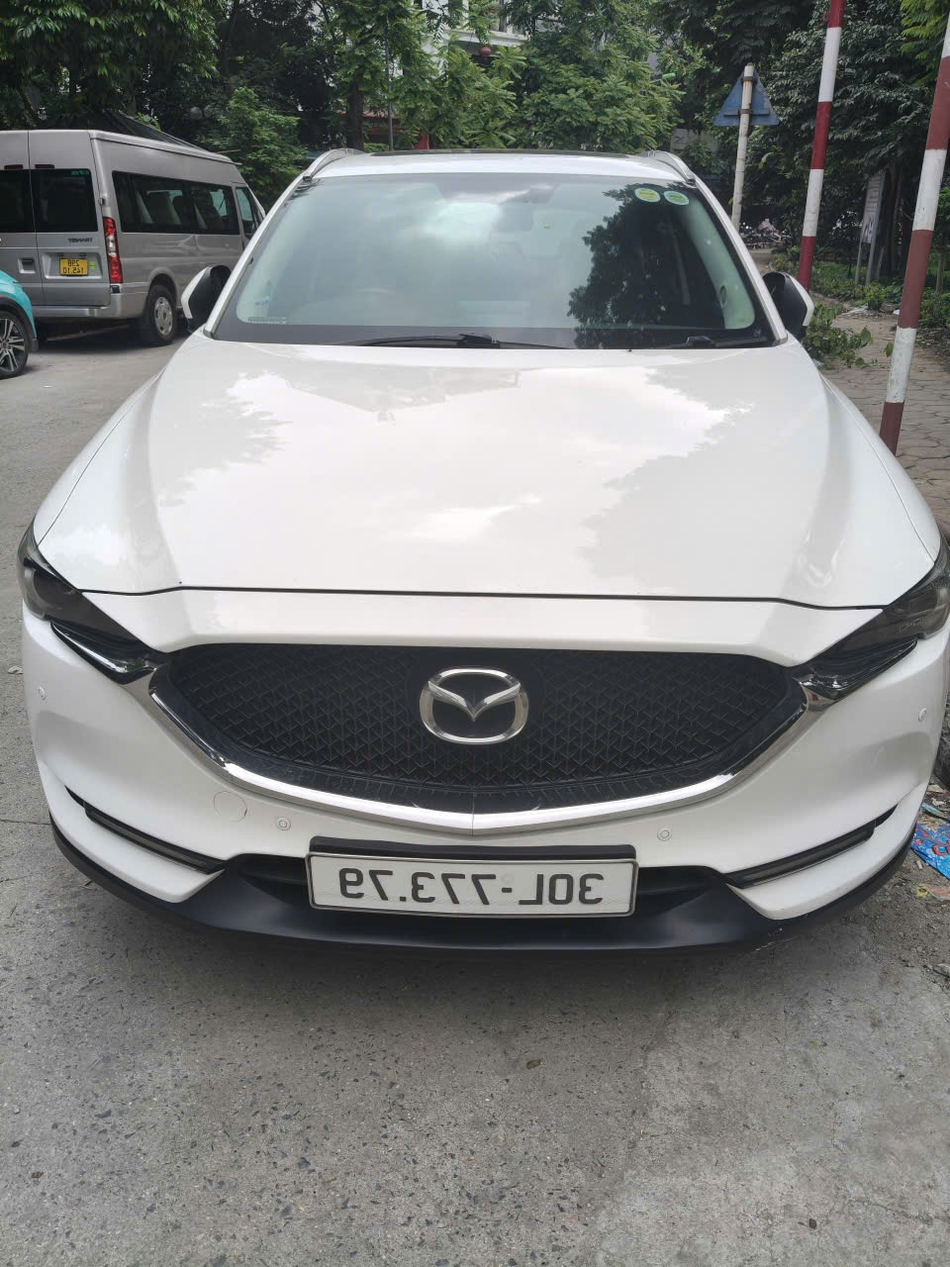plate: (5, 0, 126, 48)
